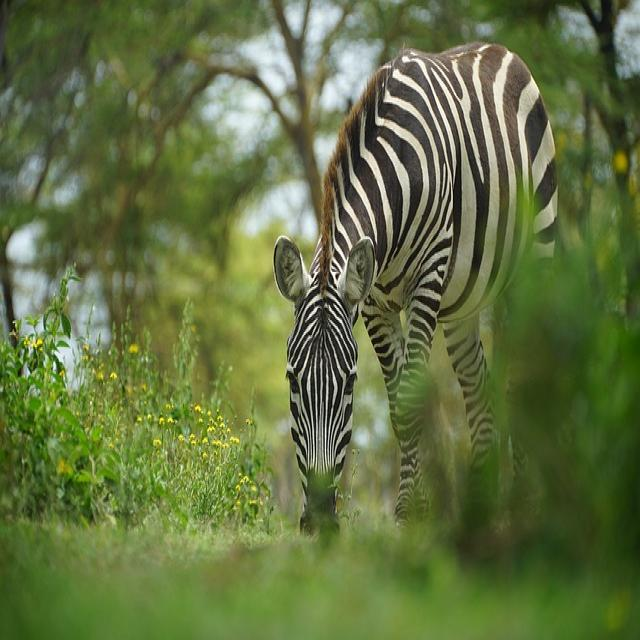Herbivorous: (273, 44, 559, 538)
